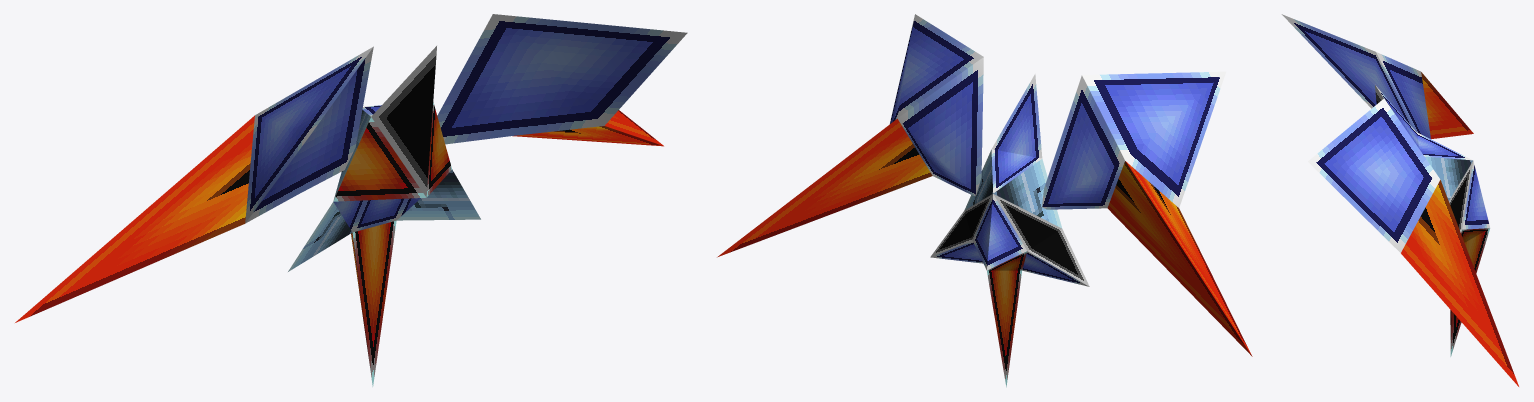
Rendered from Tripod.dae.
The picture shows the model from 3 angles, left to right: view 1: azimuth 30°, elevation 25°; view 2: azimuth 150°, elevation 25°; view 3: azimuth 270°, elevation 25°; orthographic projection. The views are drawn at different scales.
Parts seen in each view (by area): view 1: blueL, orangeR, blueR, red, black, cyan, orangeL, blue; view 2: blueR, blueL, orangeL, orangeR, blue, black, red, cyan; view 3: blueL, orangeL, blueR, blue, orangeR, red, cyan, black.
Part boxes in pixels (left/top/right/bottom): blueL: left=437, top=14, right=687, bottom=144; orangeR: left=15, top=115, right=254, bottom=322; blueR: left=245, top=46, right=373, bottom=223; red: left=333, top=102, right=451, bottom=386; black: left=371, top=46, right=436, bottom=197; cyan: left=288, top=110, right=480, bottom=271; orangeL: left=512, top=110, right=663, bottom=146; blue: left=333, top=105, right=420, bottom=232; blueR: left=1042, top=71, right=1225, bottom=209; blueL: left=890, top=14, right=983, bottom=195; orangeL: left=717, top=118, right=932, bottom=257; orangeR: left=1107, top=161, right=1252, bottom=356; blue: left=930, top=74, right=1089, bottom=286; black: left=930, top=194, right=1089, bottom=286; red: left=987, top=251, right=1026, bottom=387; cyan: left=964, top=149, right=1062, bottom=228; blueL: left=1308, top=98, right=1440, bottom=252; orangeL: left=1401, top=180, right=1518, bottom=386; blueR: left=1281, top=14, right=1430, bottom=138; blue: left=1376, top=86, right=1489, bottom=229; orangeR: left=1421, top=72, right=1473, bottom=138; red: left=1450, top=228, right=1489, bottom=356; cyan: left=1425, top=156, right=1472, bottom=200; black: left=1375, top=85, right=1473, bottom=232.
Size of the model in its own units: 294 by 161 by 121.
Materials: 5 (5 with a texture image).
